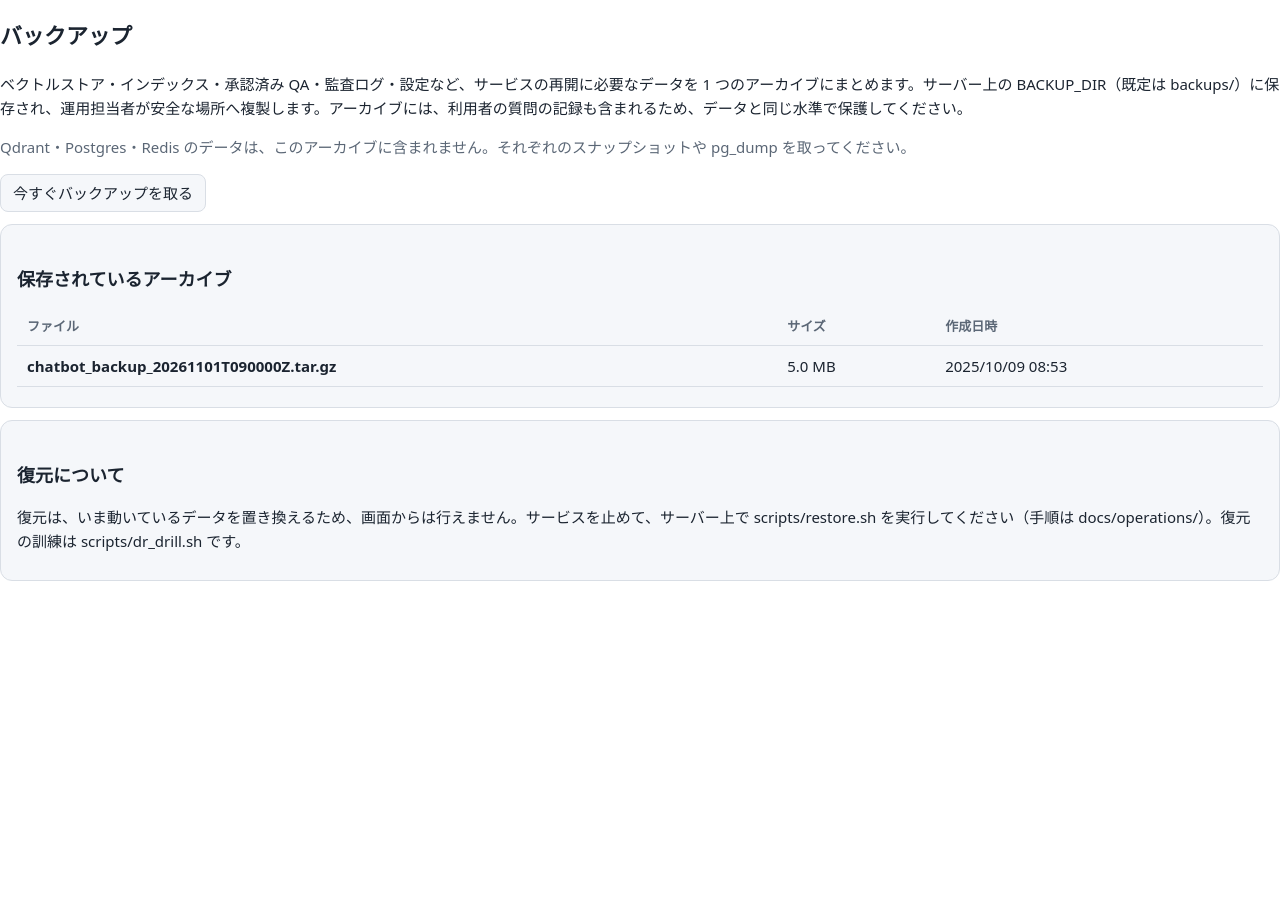
Scenario: the backup page › says when a backup is already running, when the server has no script, and when it fails
Later steps or results of the test are not shown.
Click the button "今すぐバックアップを取る": {"x": 103, "y": 193} [0,174,206,212]
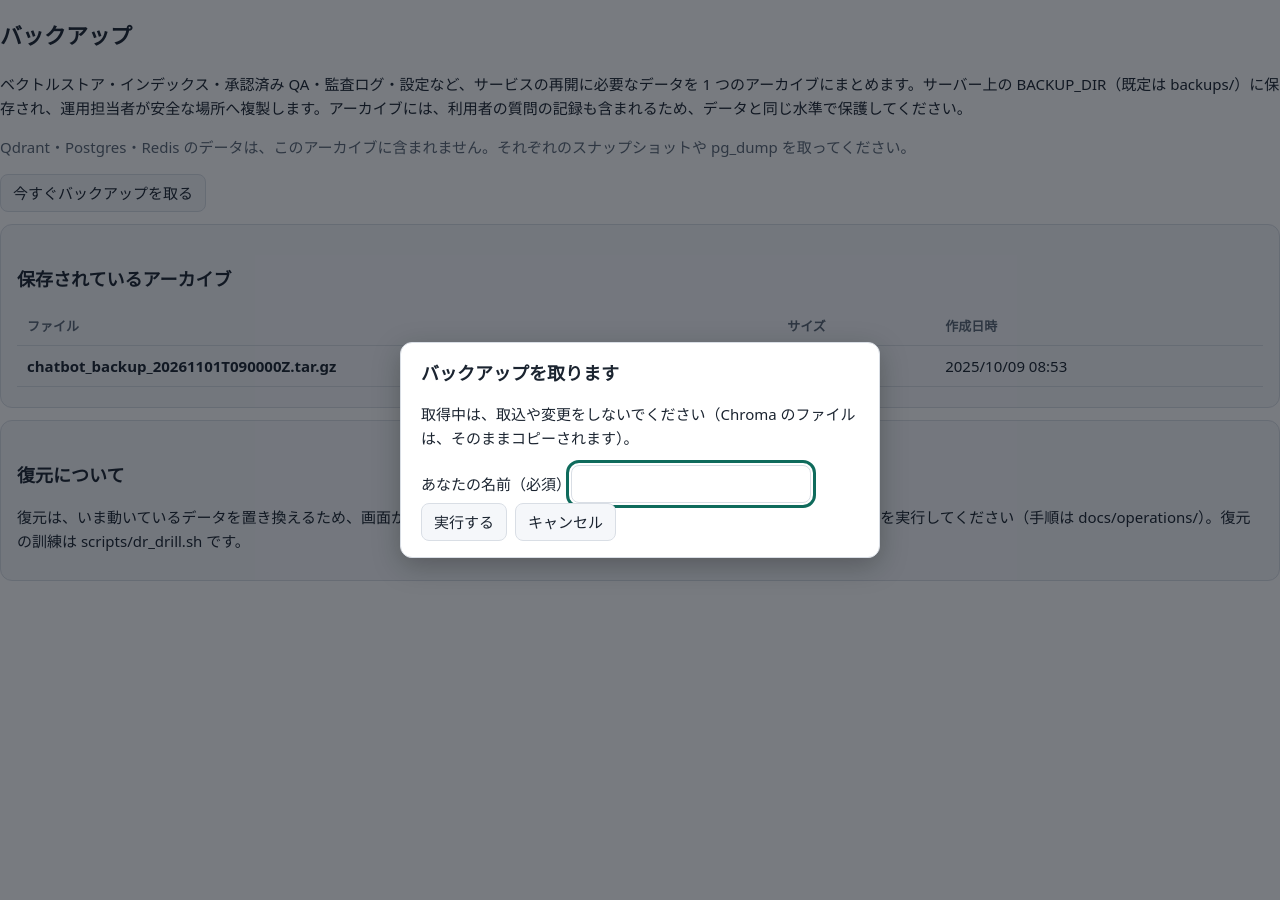
In the field labelled "あなたの名前（必須）": {"x": 691, "y": 484} [571,465,811,503], type "山田太郎"
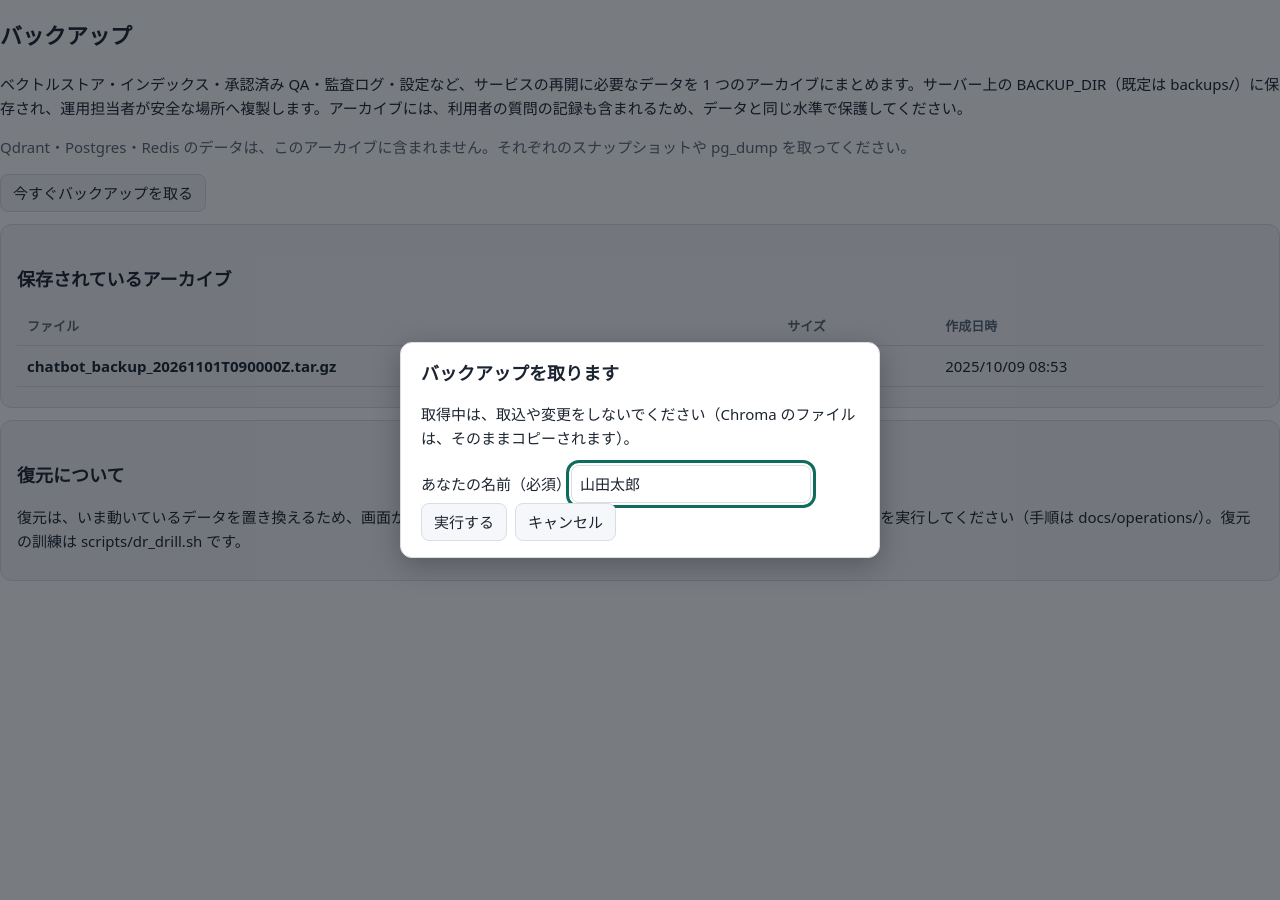
Click the button "実行する": {"x": 464, "y": 522} [421,503,507,541]
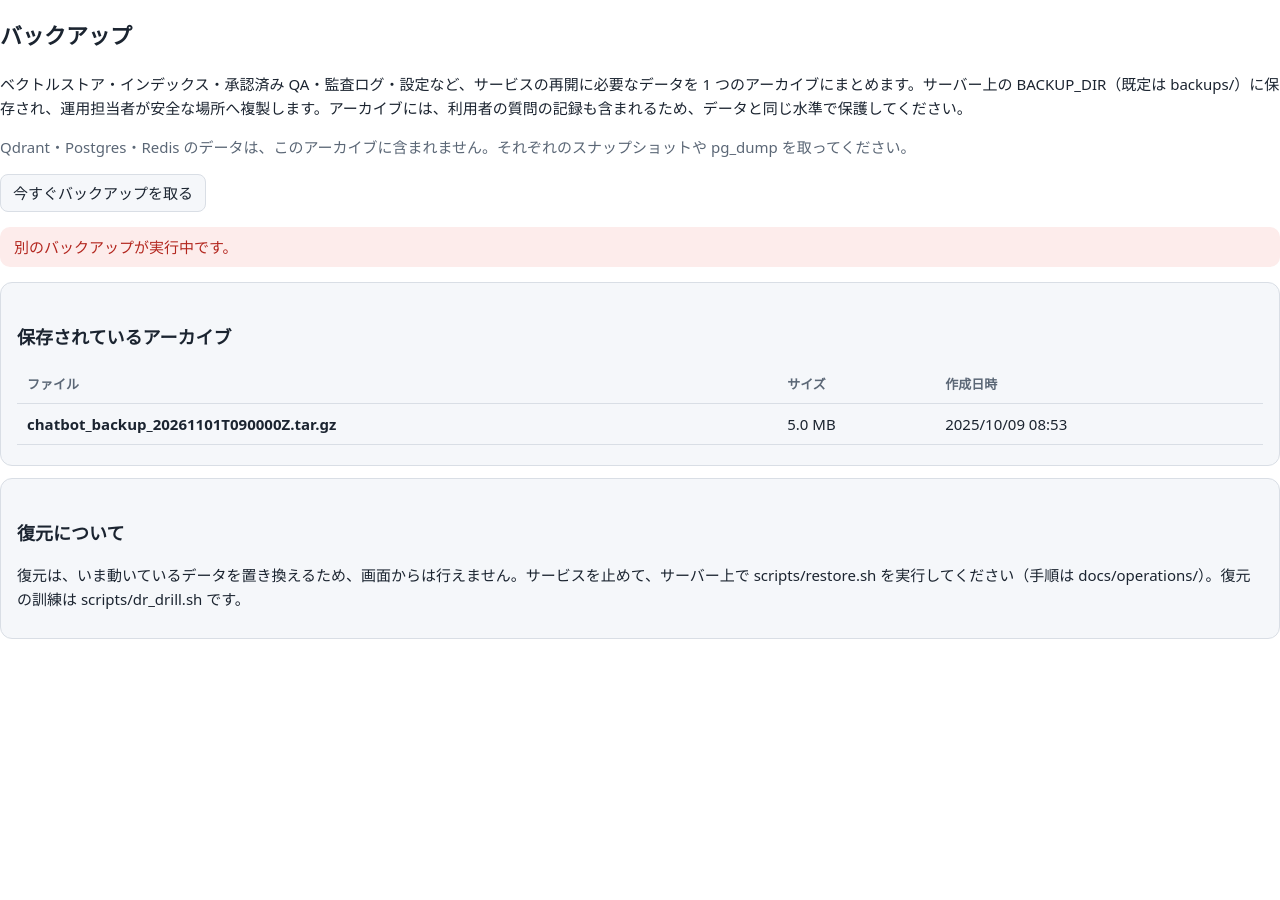
Now the text "別のバックアップが実行中です。" is shown, box [0,227,1279,267]
